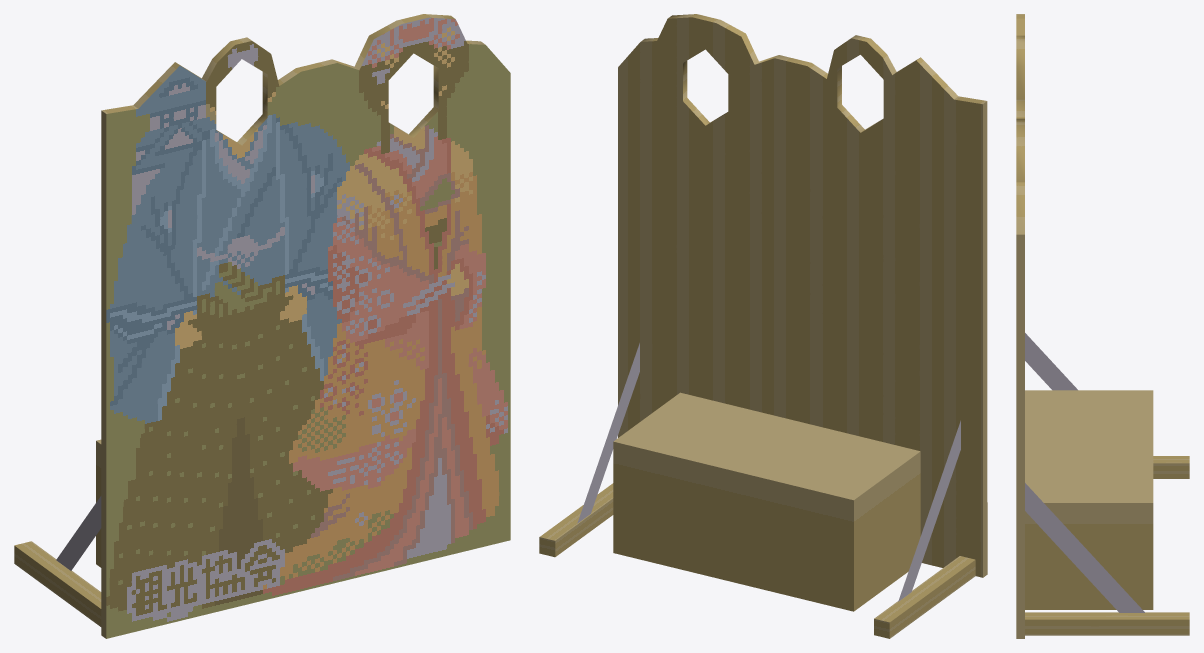
Rendered from 0456_Picture_Stand.glb.
3 renders of one model, left to right at view 1: azimuth 30°, elevation 25°; view 2: azimuth 150°, elevation 25°; view 3: azimuth 270°, elevation 25°, orthographic. The views are drawn at different scales.
Visible parts, largest first — view 1: part_0; view 2: part_0; view 3: part_0.
Part boxes in pixels (x1=…): part_0: x1=14, y1=14, x2=510, y2=638; part_0: x1=539, y1=14, x2=987, y2=638; part_0: x1=1016, y1=14, x2=1189, y2=638.
Size of the model in its own units: 1.39 by 1.85 by 0.597.
Materials: 1 (1 with a texture image).
